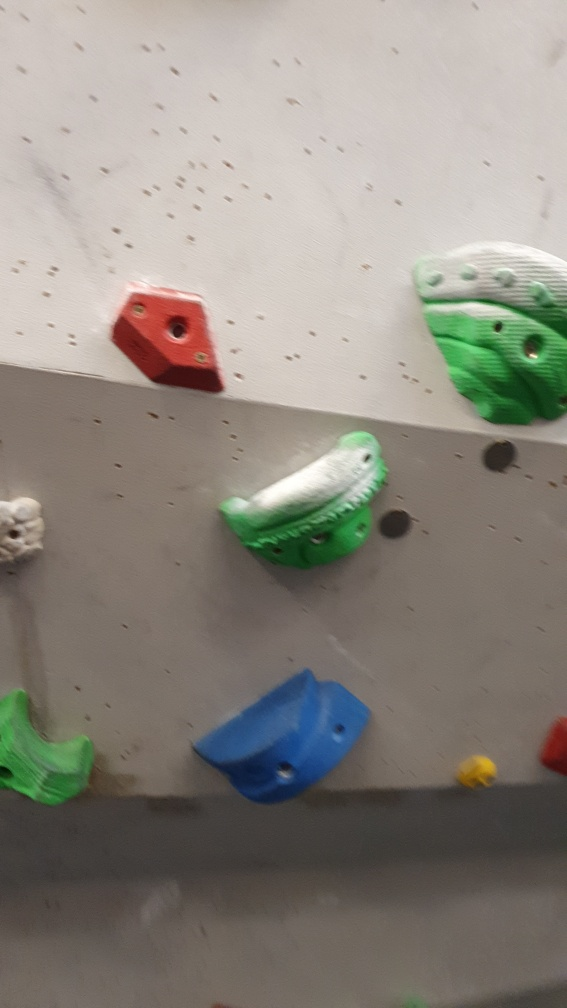Crimp: (106, 273, 228, 399)
Hand Start: (369, 497, 419, 547), (477, 434, 519, 476)
Jug: (408, 239, 567, 424), (211, 423, 387, 576), (1, 681, 104, 818)
Pinch: (189, 667, 371, 809)
